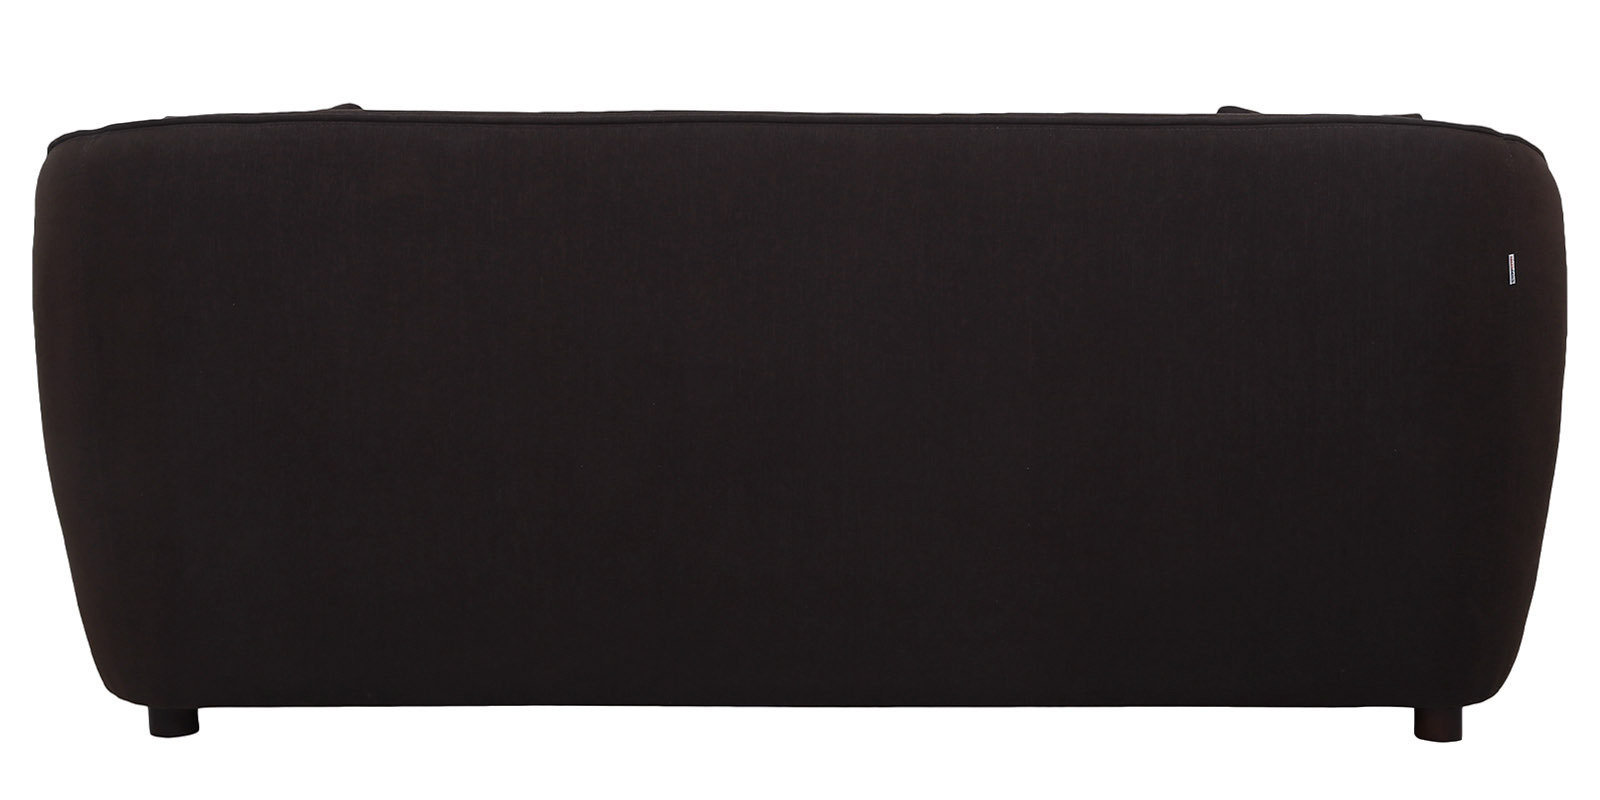Mamore Three Seater Sofa in Chestnut Brown Color by CasaCraft: (31, 101, 1572, 744)
